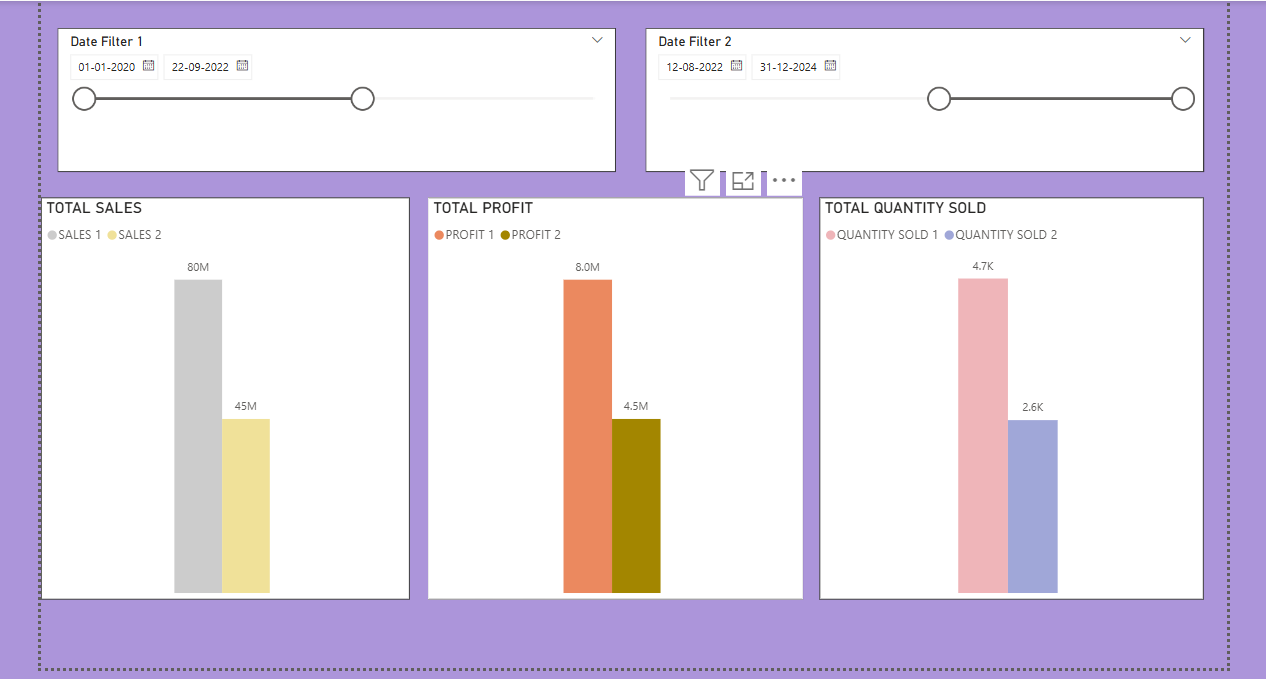

The page's visual inventory and layout, read from the dashboard file:
{"tool":"powerbi","page":{"name":"COMPARISION SALES/PROFIT/QUANTITY","canvas":[1280,720],"ordinal":2},"visuals":[{"type":"slicer","fields":{"Values":["DATE TABLE 1.Date"]},"box":[17.8,29.1,602.4,155.4],"z":0},{"type":"slicer","fields":{"Values":["DATE TABLE 2.Date"]},"box":[652.5,29.1,602.4,155.4],"z":1000},{"type":"clusteredColumnChart","title":"TOTAL SALES","fields":{"Y":["Sum(FACT TABLE.Net Sales)","DATE TABLE 1.SUM OF NET SALES"]},"box":[0,212.1,398.3,434],"z":2000},{"type":"clusteredColumnChart","title":"TOTAL PROFIT","fields":{"Y":["Sum(FACT TABLE.Profit)","Measures Table.TOTAL PROFIT"]},"box":[417.8,212.1,404.8,434],"z":3000},{"type":"clusteredColumnChart","title":"TOTAL QUANTITY SOLD","fields":{"Y":["Sum(FACT TABLE.Units Sold)","Measures Table.QUANTITY SOLD"]},"box":[840.4,212.1,414.5,434],"z":4000}]}

Visuals, with their boxes in screenshot pixels (x1, y1, x2, y2):
slicer - DATE TABLE 1.Date: <region>53, 24, 613, 168</region>
slicer - DATE TABLE 2.Date: <region>643, 24, 1204, 168</region>
"TOTAL SALES" clusteredColumnChart: <region>36, 194, 407, 598</region>
"TOTAL PROFIT" clusteredColumnChart: <region>425, 194, 801, 598</region>
"TOTAL QUANTITY SOLD" clusteredColumnChart: <region>818, 194, 1204, 598</region>
